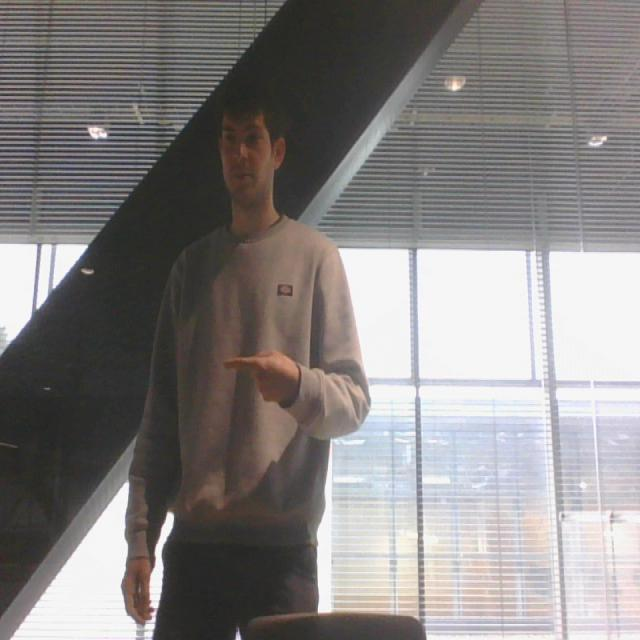left: (222, 345, 302, 411)
